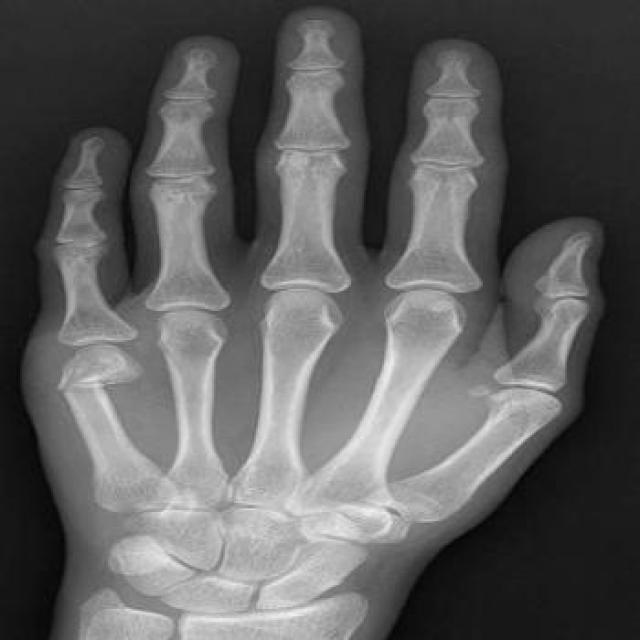Fracture: (46, 366, 154, 399)
